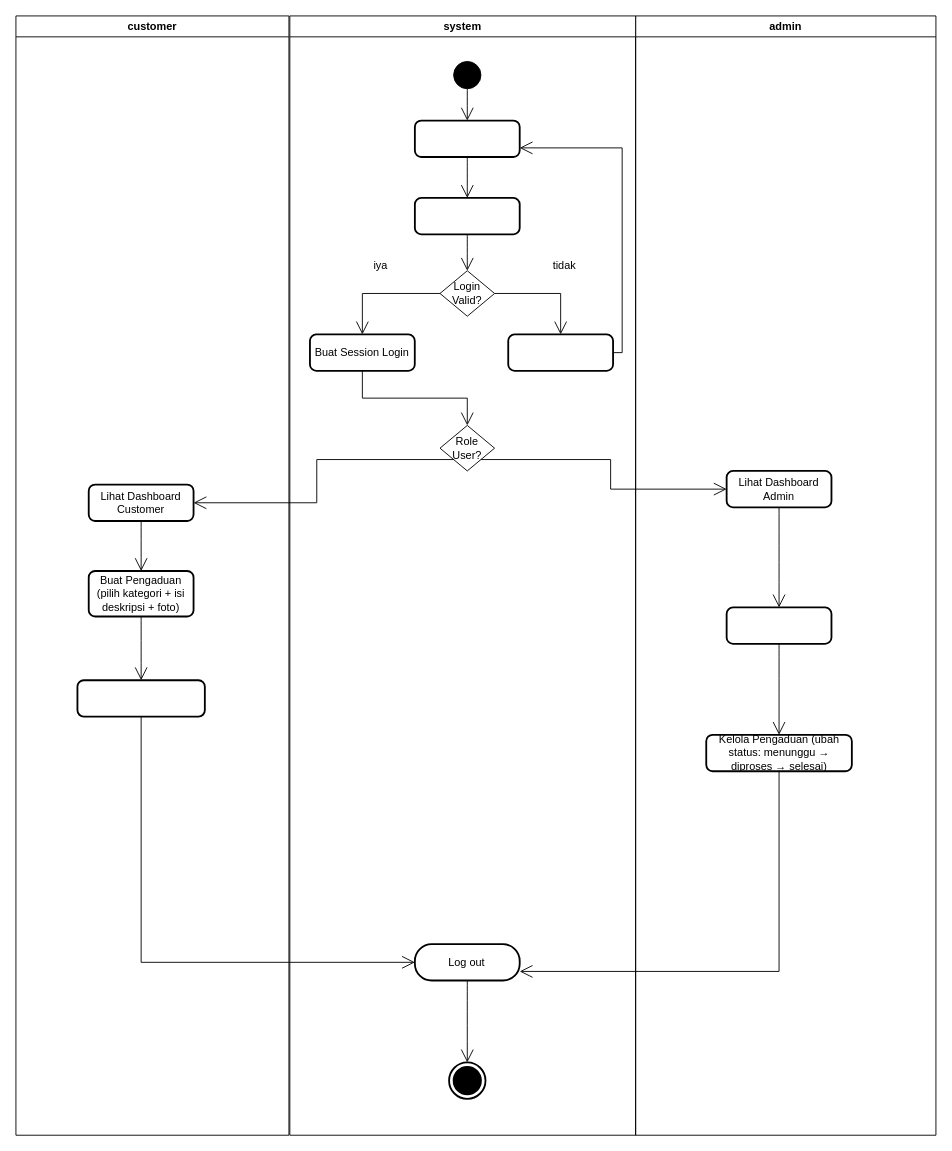
This 952x1151 diagram has some shape labels left out. The centre of each missing label's shape, as x and y in pixels:
Kelola User (tambah / edit / hapus): [778,625]
Lihat Daftar & Detail Pengaduan Milik Sendiri: [140,698]
Tampilkan Halaman Login: [467,138]
Tampilkan Pesan Error: [560,352]
Validasi Email & Password: [467,216]
